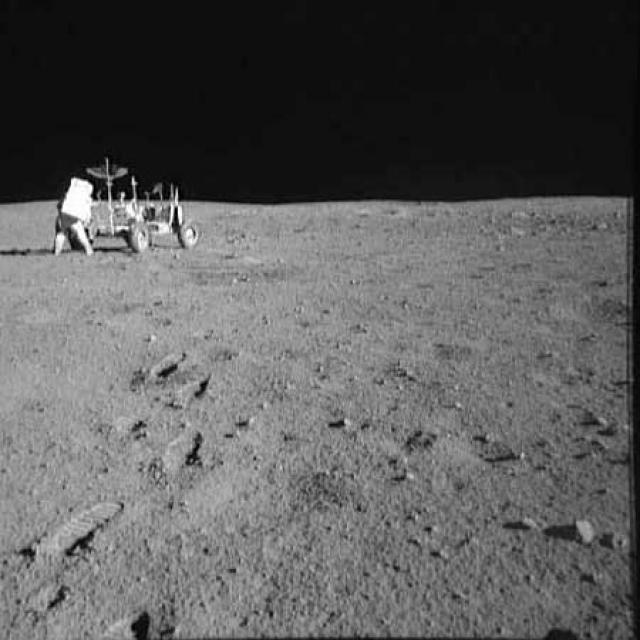crater: (14, 290, 149, 332), (182, 337, 258, 368)
rock: (558, 516, 596, 546), (578, 433, 607, 462), (582, 413, 621, 432), (330, 413, 368, 432), (602, 530, 628, 554), (584, 568, 615, 588), (500, 445, 534, 463), (513, 512, 543, 532), (398, 466, 420, 484), (393, 451, 416, 466), (232, 414, 259, 426), (142, 329, 158, 346), (226, 426, 248, 438)
